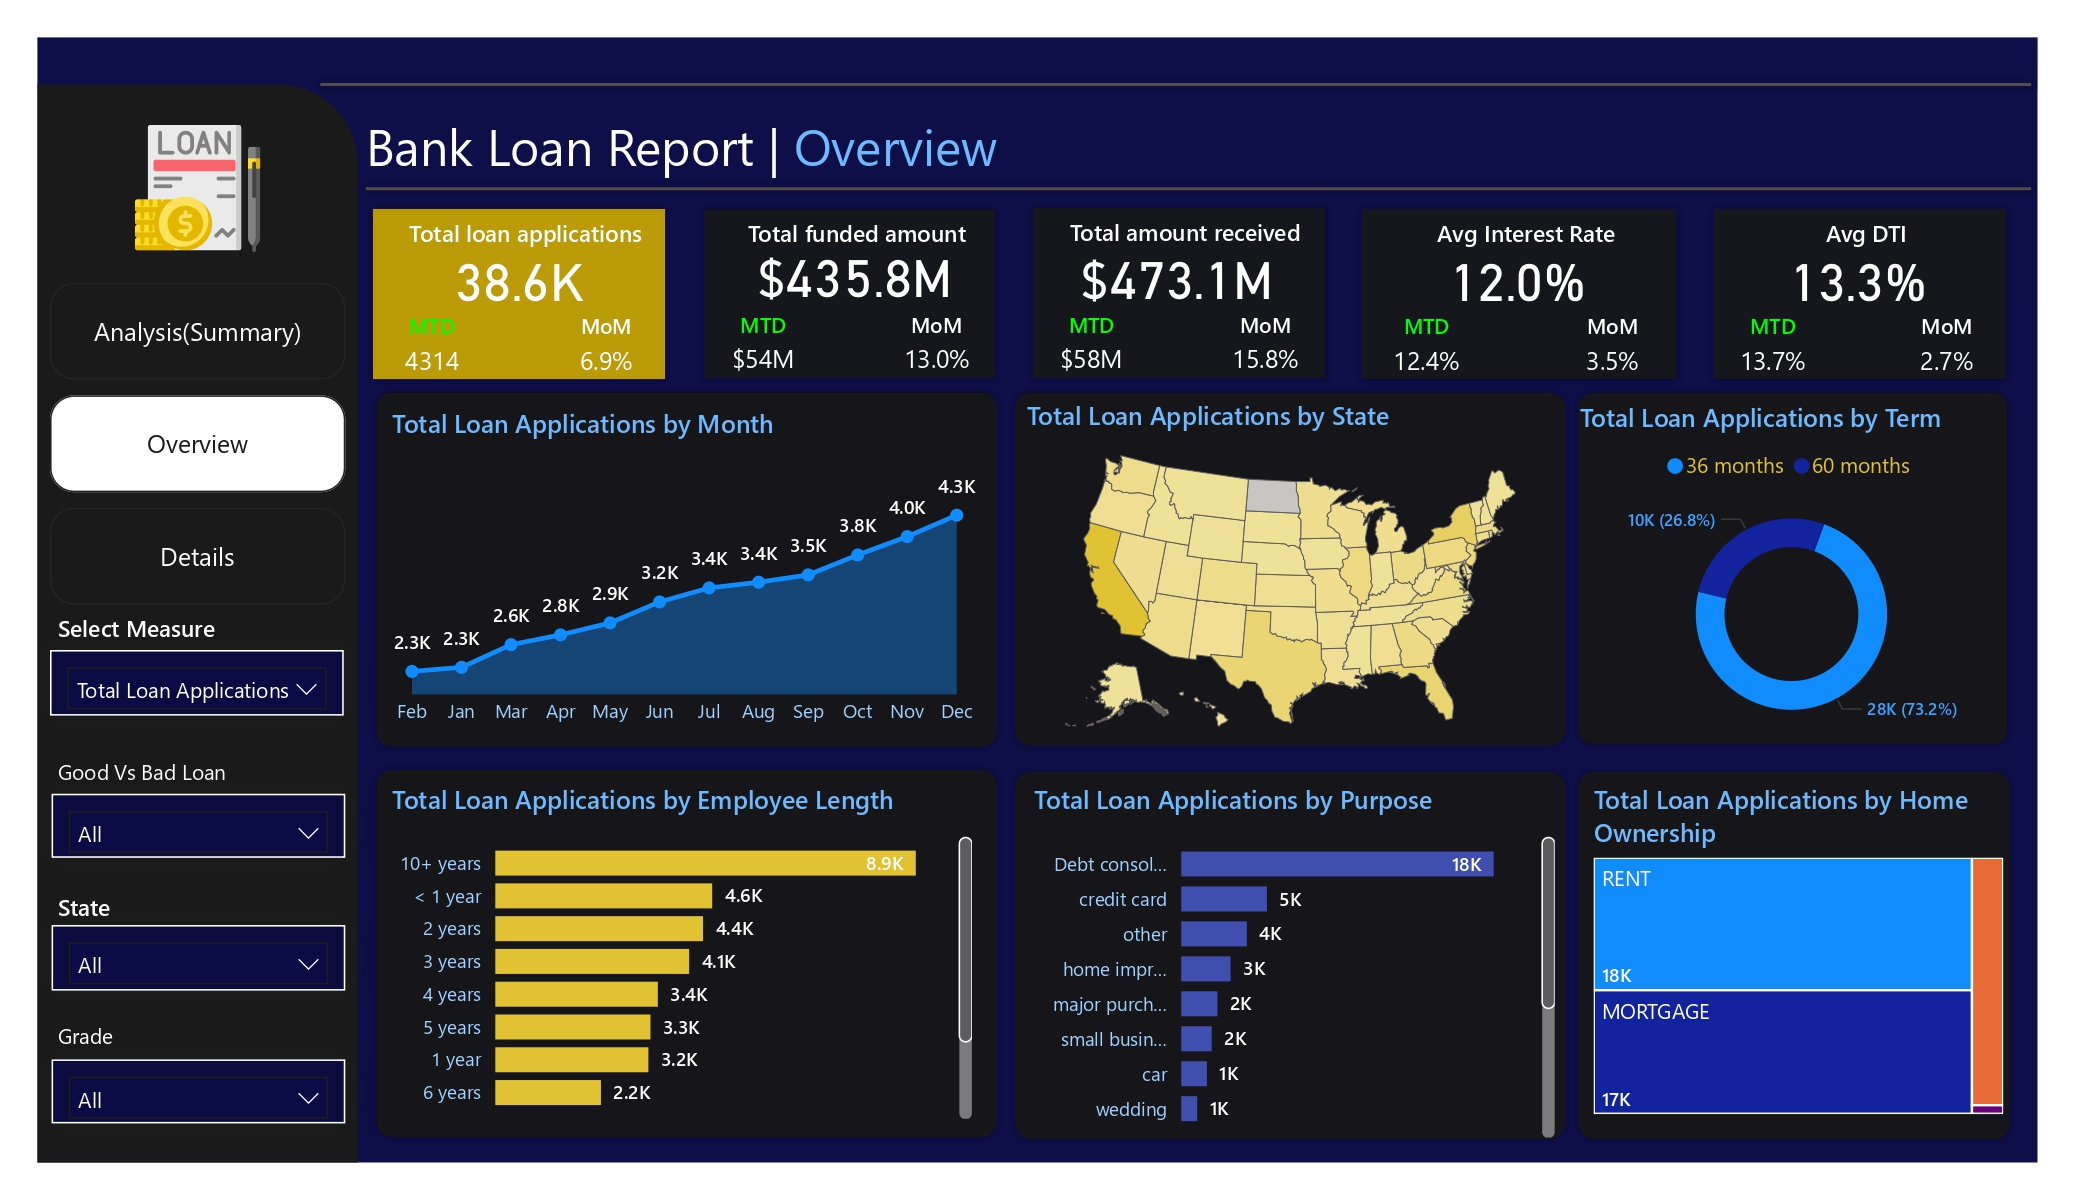

What the dashboard file says about the page in this screenshot:
{"tool":"powerbi","page":{"name":"Overview","canvas":[1280,720],"ordinal":1},"visuals":[{"type":"shape","box":[0,30,205,690],"z":0},{"type":"shape","box":[632.9,105,194.8,116.9],"z":0,"group":"g3"},{"type":"shape","box":[211.4,105.7,194.8,116.9],"z":0,"group":"g1"},{"type":"shape","box":[422.5,105.7,194.3,116.2],"z":0,"group":"g2"},{"type":"shape","box":[843.7,105.7,208.9,117.3],"z":0,"group":"g4"},{"type":"shape","box":[1068.6,105.7,194.8,116.9],"z":0,"group":"g5"},{"type":"shape","box":[176.7,0,1103.3,60],"z":1000},{"type":"card","fields":{"Values":["bank_loan.Total Funded Amount"]},"box":[438.1,123.7,168,55.3],"z":1000,"group":"g2"},{"type":"card","fields":{"Values":["bank_loan.Total amount received"]},"box":[649.1,125.4,160,55.7],"z":1000,"group":"g3"},{"type":"card","fields":{"Values":["bank_loan.Avg DTI"]},"box":[1084.8,126.1,160,55.7],"z":1000,"group":"g5"},{"type":"card","fields":{"Values":["bank_loan.Avg Interest Rate"]},"box":[861.1,126.2,171.6,55.9],"z":1000,"group":"g4"},{"type":"card","fields":{"Values":["bank_loan.Total Loan Applications"]},"box":[232.3,128,153,51.5],"z":1000,"group":"g1"},{"type":"shape","box":[205.6,65.6,1074.4,61.1],"z":2000},{"type":"textbox","box":[653.8,109.2,161.4,34.8],"z":2000,"group":"g3"},{"type":"textbox","box":[232.3,109.9,161.4,34.8],"z":2000,"group":"g1"},{"type":"textbox","box":[443.3,109.9,161,34.6],"z":2000,"group":"g2"},{"type":"textbox","box":[866.1,109.9,173.1,34.9],"z":2000,"group":"g4"},{"type":"textbox","box":[1089.5,109.9,161.4,34.8],"z":2000,"group":"g5"},{"type":"textbox","box":[205,41.7,586.7,81.7],"z":3000},{"type":"card","title":"MTD","fields":{"Values":["bank_loan.MTD Total amount received"]},"box":[632.9,174.6,83.5,47.3],"z":3000,"group":"g3"},{"type":"card","title":"MTD","fields":{"Values":["bank_loan.MTD Funded Amount"]},"box":[422.5,174.9,83.3,47],"z":3000,"group":"g2"},{"type":"card","title":"MTD","fields":{"Values":["bank_loan.MTD Loan Applications"]},"box":[211.4,175.3,83.5,47.3],"z":3000,"group":"g1"},{"type":"card","title":"MTD","fields":{"Values":["bank_loan.MTD Avg DTI"]},"box":[1068.6,175.3,83.5,47.3],"z":3000,"group":"g5"},{"type":"card","title":"MTD","fields":{"Values":["bank_loan.MTD Avg Interest Rate"]},"box":[843.7,175.5,89.5,47.5],"z":3000,"group":"g4"},{"type":"textbox","box":[8.3,456,160,33.3],"z":3000,"group":"g6"},{"type":"card","title":"MoM","fields":{"Values":["bank_loan.MoM Total Amount Received"]},"box":[744.2,174.6,83.5,47.3],"z":4000,"group":"g3"},{"type":"card","title":"MoM","fields":{"Values":["bank_loan.MoM Total Funded Amount"]},"box":[533.5,174.9,83.3,47],"z":4000,"group":"g2"},{"type":"card","title":"MoM","fields":{"Values":["bank_loan.Mom Loan Applications"]},"box":[322.7,175.3,83.5,47.3],"z":4000,"group":"g1"},{"type":"card","title":"MoM","fields":{"Values":["bank_loan.MoM Avg DTI"]},"box":[1179.9,175.3,83.5,47.3],"z":4000,"group":"g5"},{"type":"card","title":"MoM","fields":{"Values":["bank_loan.MoM Avg Interest Rate"]},"box":[963.1,175.5,89.5,47.5],"z":4000,"group":"g4"},{"type":"shape","box":[213.3,223.3,405,235],"z":4000},{"type":"group","id":"g1","title":"Group 1","box":[211.4,105.7,194.8,116.9],"z":5000},{"type":"group","id":"g2","title":"Group 1","box":[422.5,105.7,194,116],"z":6000},{"type":"group","id":"g3","title":"Group 1","box":[632.9,105,194.4,116.7],"z":7000},{"type":"group","id":"g4","title":"Group 1","box":[843.7,105.7,208.6,117.1],"z":8000},{"type":"group","id":"g5","title":"Group 1","box":[1068.6,105.7,195.7,115.7],"z":9000},{"type":"areaChart","fields":{"Y":["bank_loan.Total Loan Applications"],"Category":["Date Table.Month"]},"box":[222.2,235.6,383.3,213.3],"z":10000},{"type":"shape","box":[621.9,223.3,360,233.3],"z":11000},{"type":"slicer","fields":{"Values":["bank_loan.Good vs bad Loan"]},"box":[8.9,484.3,188.9,41.1],"z":11000,"group":"g6"},{"type":"shapeMap","fields":{"Value":["bank_loan.Total Loan Applications"],"Category":["bank_loan.address_state"]},"box":[628,231,347.8,224],"z":12000},{"type":"slicer","fields":{"Values":["bank_loan.address_state"]},"box":[8.9,568.8,188.9,41.1],"z":12000,"group":"g6"},{"type":"shape","box":[981.7,223.3,283.3,232.5],"z":13000},{"type":"slicer","fields":{"Values":["bank_loan.grade"]},"box":[8.9,654.3,188.9,41.1],"z":13000,"group":"g6"},{"type":"donutChart","fields":{"Y":["bank_loan.Total Loan Applications"],"Category":["bank_loan.term"]},"box":[981.7,231.7,281.7,223.3],"z":14000},{"type":"textbox","box":[8.4,541,104.6,36.9],"z":14000,"group":"g6"},{"type":"shape","box":[213.3,465,405,243.3],"z":15000},{"type":"textbox","box":[8.4,624.8,160,33.1],"z":15000,"group":"g6"},{"type":"barChart","fields":{"Y":["bank_loan.Total Loan Applications"],"Category":["bank_loan.emp_length"]},"box":[222.2,476.7,381.1,220],"z":16000},{"type":"slicer","fields":{"Values":["Select From Slicer.Select From Slicer"]},"box":[8.3,392.7,188.3,41.7],"z":17000,"group":"g6"},{"type":"shape","box":[622.2,465.6,360,243.3],"z":17000},{"type":"textbox","box":[8.4,363.3,130.8,37.7],"z":18000,"group":"g6"},{"type":"barChart","fields":{"Y":["bank_loan.Total Loan Applications"],"Category":["bank_loan.purpose"]},"box":[633.3,476.7,342.2,232.2],"z":18000},{"type":"shape","box":[982.2,465.6,283.3,243.3],"z":19000},{"type":"treemap","fields":{"Values":["bank_loan.Total Loan Applications"],"Group":["bank_loan.home_ownership"]},"box":[991.1,476.7,272.2,217.8],"z":20000},{"type":"image","box":[56.7,46.7,91.7,98.3],"z":21000},{"type":"group","id":"g6","title":"Group 2","box":[8.3,363.3,190,333.3],"z":22000},{"type":"pageNavigator","box":[8.3,156.7,188.3,206.7],"z":23000}]}

Visuals, with their boxes on the page's 1280x720 design canvas (x1, y1, x2, y2). These are canvas units, not pixel positions in the 2075x1200 screenshot, which may show the page scaled, cropped or inside an application window:
shape: locate(0, 30, 205, 720)
shape: locate(633, 105, 828, 222)
shape: locate(211, 106, 406, 223)
shape: locate(422, 106, 617, 222)
shape: locate(844, 106, 1053, 223)
shape: locate(1069, 106, 1263, 223)
shape: locate(177, 0, 1280, 60)
card - bank_loan.Total Funded Amount: locate(438, 124, 606, 179)
card - bank_loan.Total amount received: locate(649, 125, 809, 181)
card - bank_loan.Avg DTI: locate(1085, 126, 1245, 182)
card - bank_loan.Avg Interest Rate: locate(861, 126, 1033, 182)
card - bank_loan.Total Loan Applications: locate(232, 128, 385, 180)
shape: locate(206, 66, 1280, 127)
textbox: locate(654, 109, 815, 144)
textbox: locate(232, 110, 394, 145)
textbox: locate(443, 110, 604, 144)
textbox: locate(866, 110, 1039, 145)
textbox: locate(1090, 110, 1251, 145)
textbox: locate(205, 42, 792, 123)
"MTD" card: locate(633, 175, 716, 222)
"MTD" card: locate(422, 175, 506, 222)
"MTD" card: locate(211, 175, 295, 223)
"MTD" card: locate(1069, 175, 1152, 223)
"MTD" card: locate(844, 176, 933, 223)
textbox: locate(8, 456, 168, 489)
"MoM" card: locate(744, 175, 828, 222)
"MoM" card: locate(534, 175, 617, 222)
"MoM" card: locate(323, 175, 406, 223)
"MoM" card: locate(1180, 175, 1263, 223)
"MoM" card: locate(963, 176, 1053, 223)
shape: locate(213, 223, 618, 458)
"Group 1" group: locate(211, 106, 406, 223)
"Group 1" group: locate(422, 106, 616, 222)
"Group 1" group: locate(633, 105, 827, 222)
"Group 1" group: locate(844, 106, 1052, 223)
"Group 1" group: locate(1069, 106, 1264, 221)
areaChart - bank_loan.Total Loan Applications x Date Table.Month: locate(222, 236, 606, 449)
shape: locate(622, 223, 982, 457)
slicer - bank_loan.Good vs bad Loan: locate(9, 484, 198, 525)
shapeMap - bank_loan.Total Loan Applications x bank_loan.address_state: locate(628, 231, 976, 455)
slicer - bank_loan.address_state: locate(9, 569, 198, 610)
shape: locate(982, 223, 1265, 456)
slicer - bank_loan.grade: locate(9, 654, 198, 695)
donutChart - bank_loan.Total Loan Applications x bank_loan.term: locate(982, 232, 1263, 455)
textbox: locate(8, 541, 113, 578)
shape: locate(213, 465, 618, 708)
textbox: locate(8, 625, 168, 658)
barChart - bank_loan.Total Loan Applications x bank_loan.emp_length: locate(222, 477, 603, 697)
slicer - Select From Slicer.Select From Slicer: locate(8, 393, 197, 434)
shape: locate(622, 466, 982, 709)
textbox: locate(8, 363, 139, 401)
barChart - bank_loan.Total Loan Applications x bank_loan.purpose: locate(633, 477, 976, 709)
shape: locate(982, 466, 1266, 709)
treemap - bank_loan.Total Loan Applications x bank_loan.home_ownership: locate(991, 477, 1263, 694)
image: locate(57, 47, 148, 145)
"Group 2" group: locate(8, 363, 198, 697)
pageNavigator: locate(8, 157, 197, 363)
